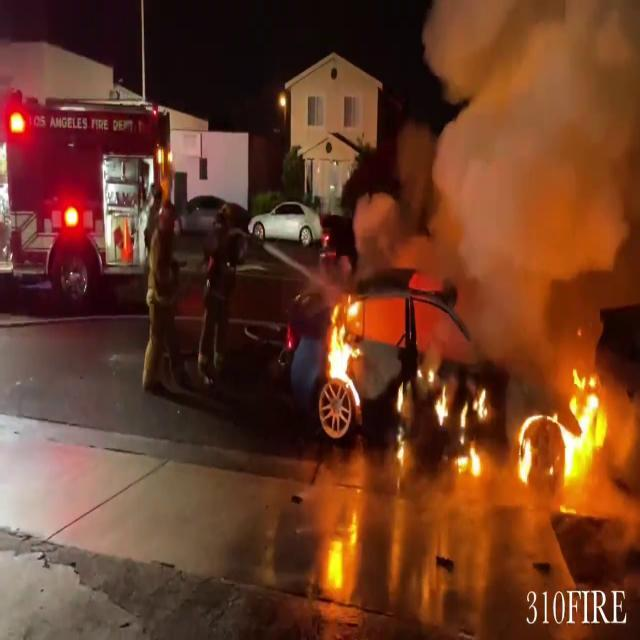Fire: (516, 366, 610, 491), (553, 367, 609, 487), (320, 294, 370, 394), (319, 500, 361, 606), (514, 412, 536, 488)
Smoke: (399, 0, 640, 330)
